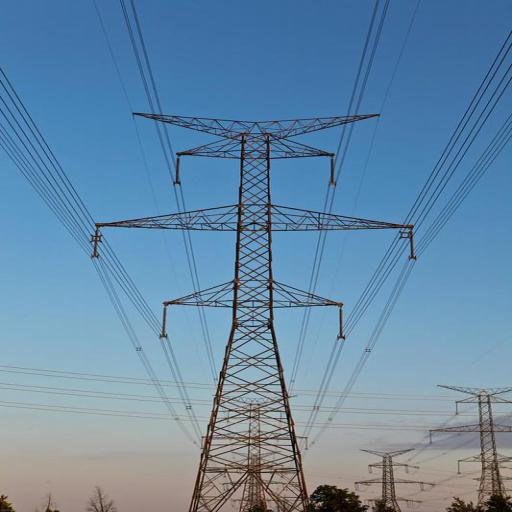ss_3: (95, 108, 410, 512), (430, 382, 511, 511), (350, 446, 426, 511)
